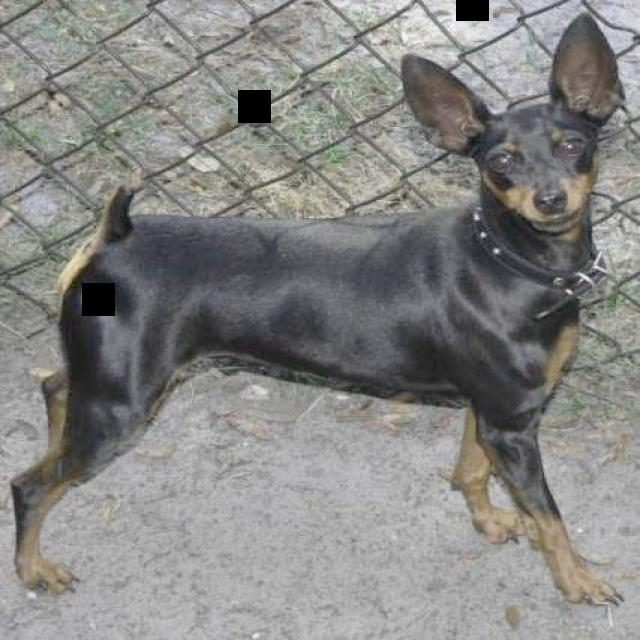adult_dog: (13, 10, 627, 608)
